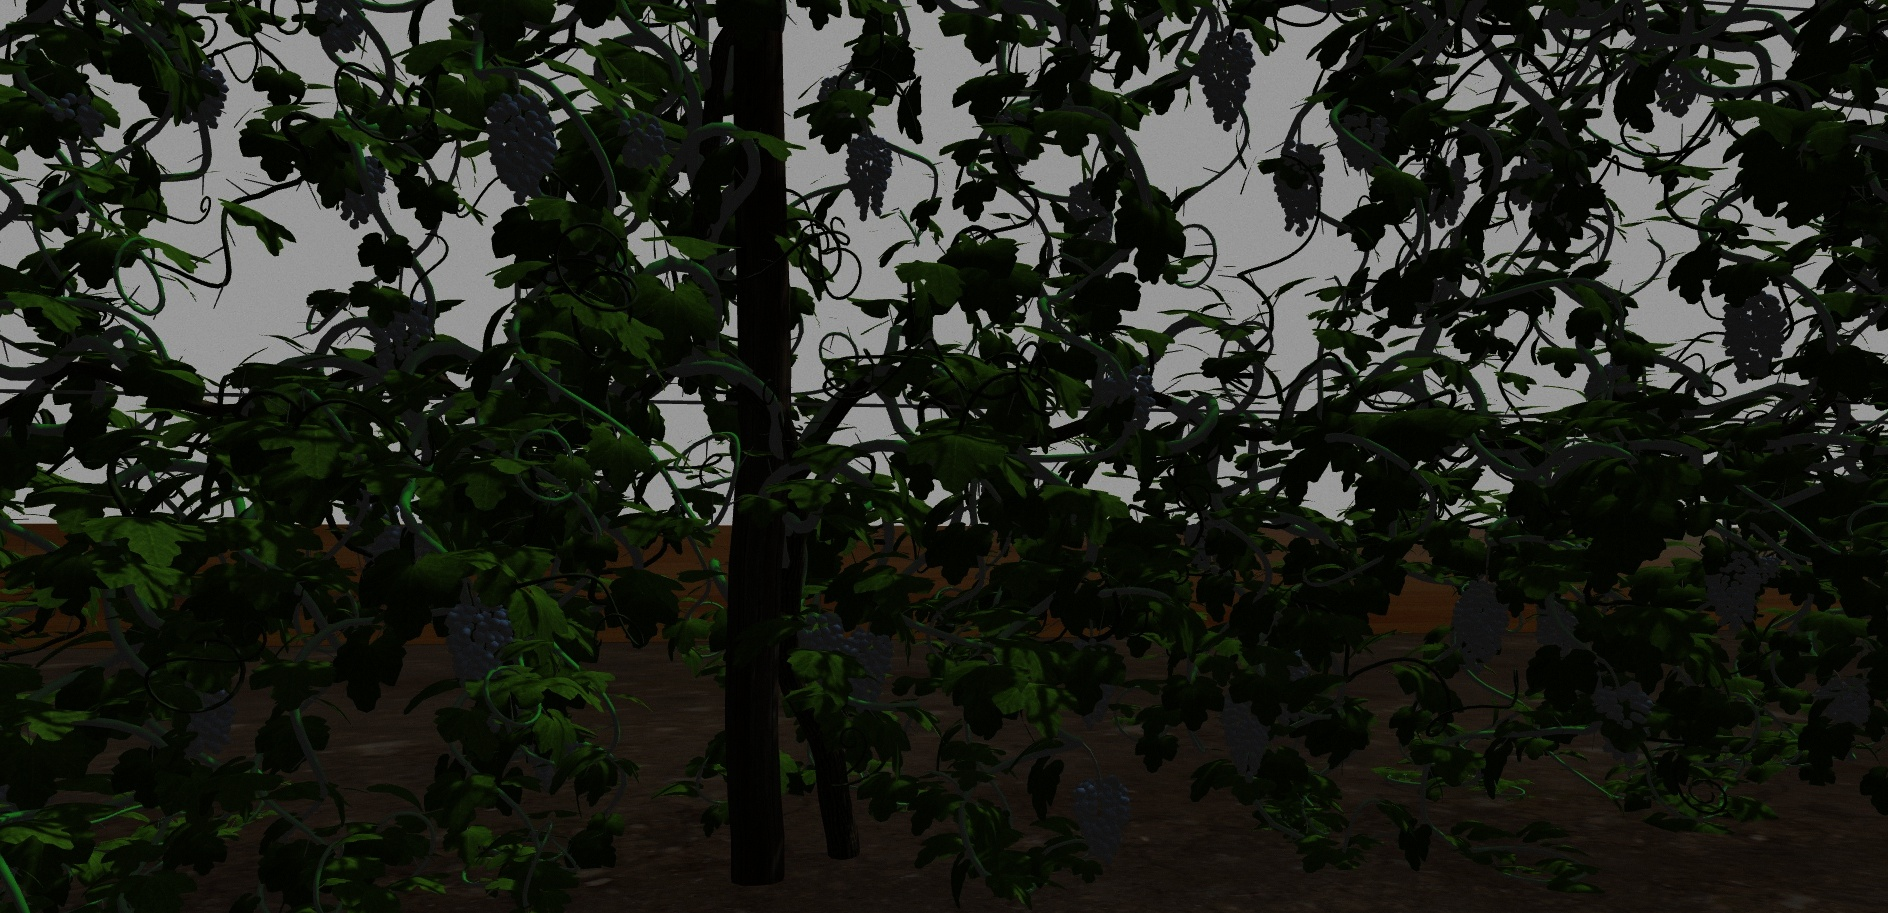grape: (486, 92, 556, 204), (1719, 287, 1787, 384), (1198, 31, 1258, 134), (446, 601, 511, 689), (1449, 577, 1509, 671), (1072, 774, 1131, 865), (1272, 143, 1326, 237), (367, 298, 430, 373), (1704, 554, 1762, 634), (1220, 693, 1270, 783), (844, 136, 893, 223), (179, 684, 238, 756), (1101, 365, 1158, 432), (1650, 51, 1703, 120), (338, 155, 387, 229), (1067, 177, 1114, 247), (845, 632, 893, 700), (1815, 675, 1872, 729), (1337, 108, 1386, 171), (46, 92, 105, 141), (616, 114, 666, 173), (1591, 682, 1647, 729), (315, 4, 366, 53), (796, 613, 844, 656)
